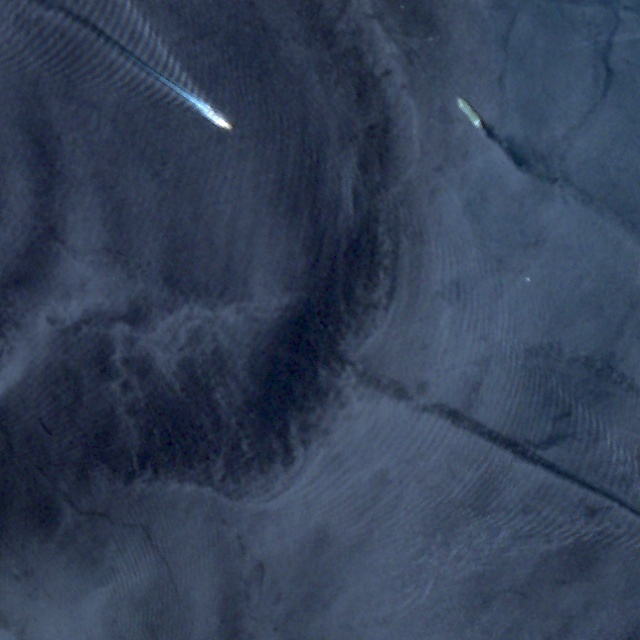wake: (90, 8, 264, 168)
